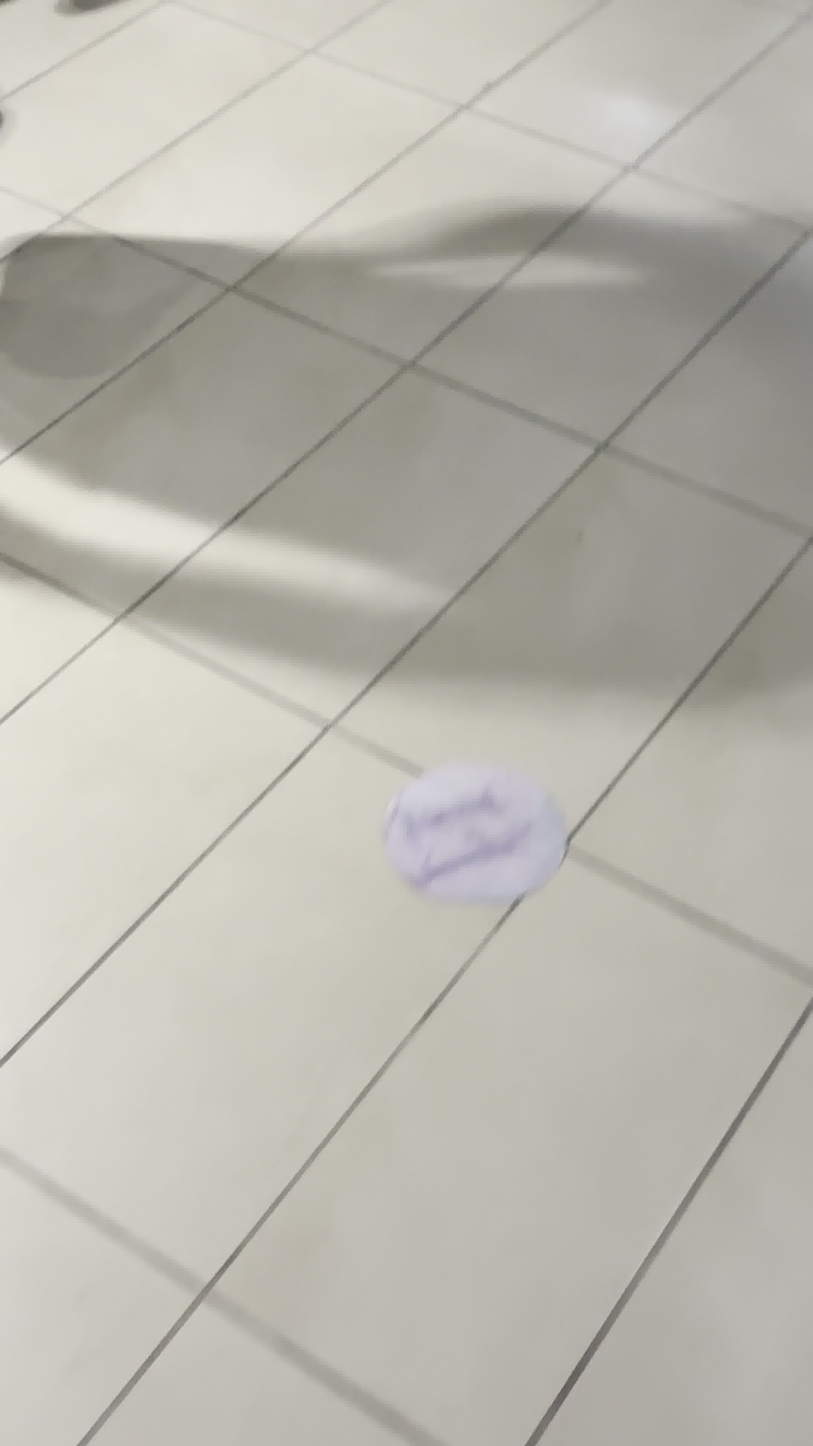Target: (379, 761, 561, 903)
